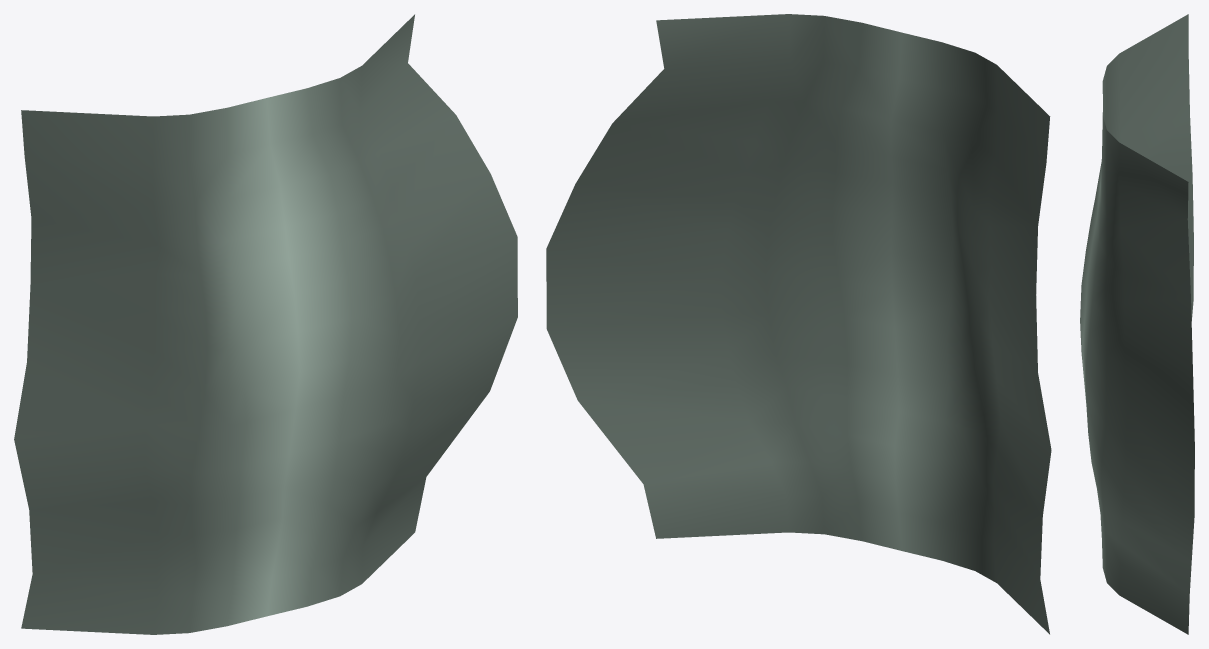
Rendered from Swamp_BarStraightB.glb.
3 views of the same model, side by side, from view 1: azimuth 30°, elevation 25°; view 2: azimuth 150°, elevation 25°; view 3: azimuth 270°, elevation 25° (orthographic). The views are drawn at different scales.
Parts seen in each view (by area): view 1: MeshNode_0; view 2: MeshNode_0; view 3: MeshNode_0.
Part boxes in pixels (x1=…): MeshNode_0: x1=14, y1=14, x2=517, y2=634; MeshNode_0: x1=546, y1=14, x2=1051, y2=634; MeshNode_0: x1=1080, y1=14, x2=1194, y2=634.
Bounding box in the file's own units: 130 × 128 × 29.43.
